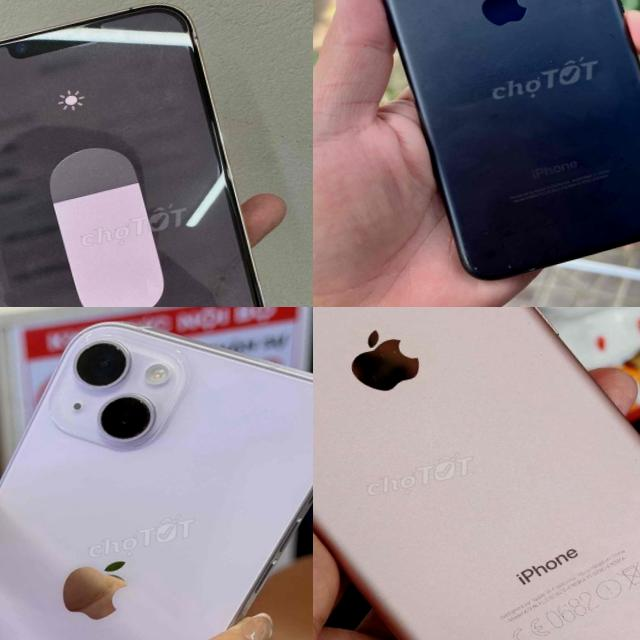gen_12_13: (0, 0, 302, 307)
gen_14: (0, 307, 313, 640)
gen_7_8: (313, 307, 640, 640), (366, 0, 640, 295)
